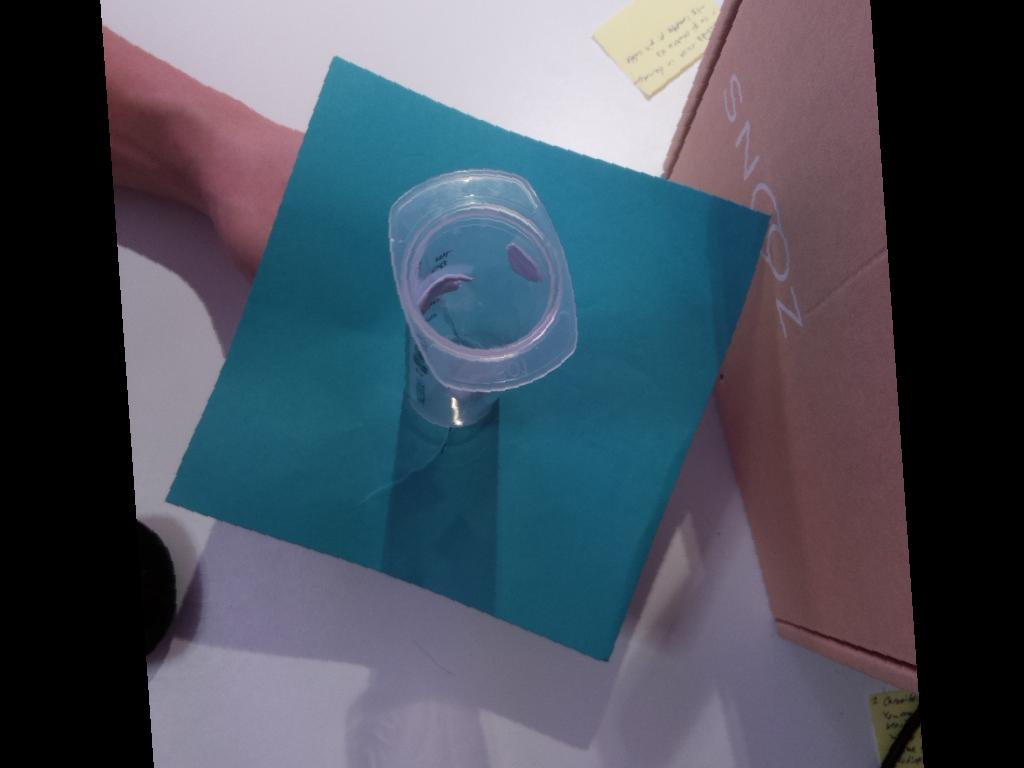dirty: (387, 167, 579, 396)
